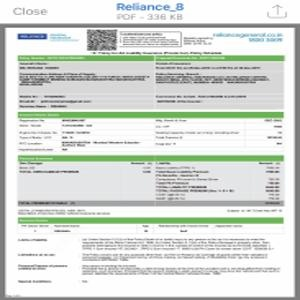image: (17, 33, 49, 41)
table: (18, 216, 284, 284), (16, 55, 285, 111), (18, 157, 284, 206), (17, 113, 285, 153)
text: (120, 30, 182, 47), (210, 30, 285, 43)
